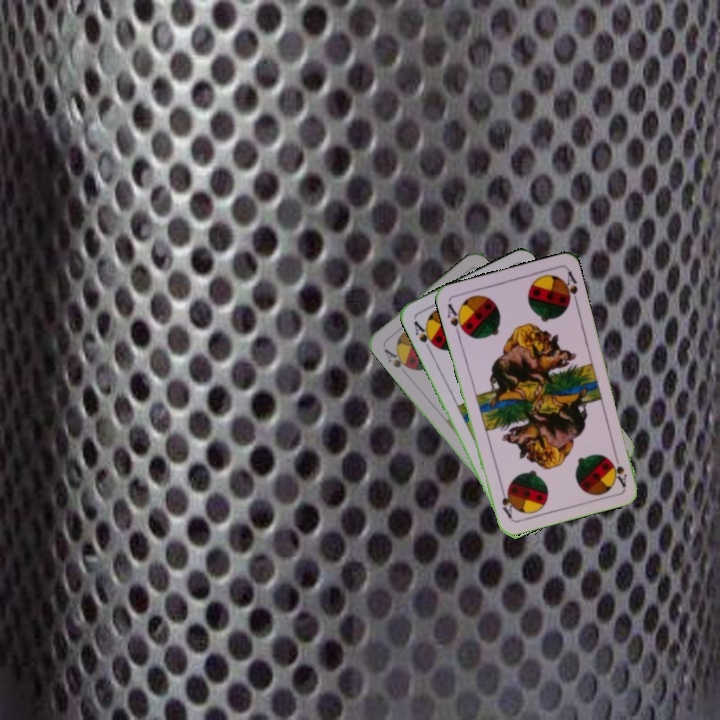SA: (410, 316, 439, 353), (380, 344, 413, 376), (443, 299, 468, 339), (607, 449, 629, 489)
